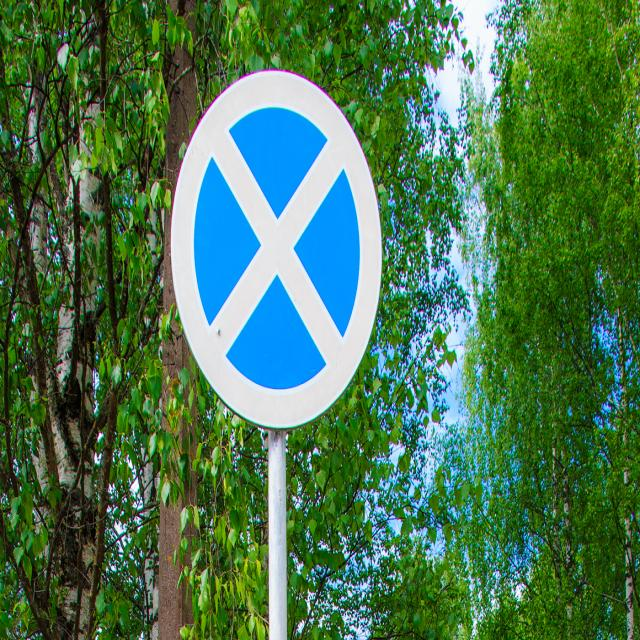Traffic sign: (161, 62, 392, 438)
